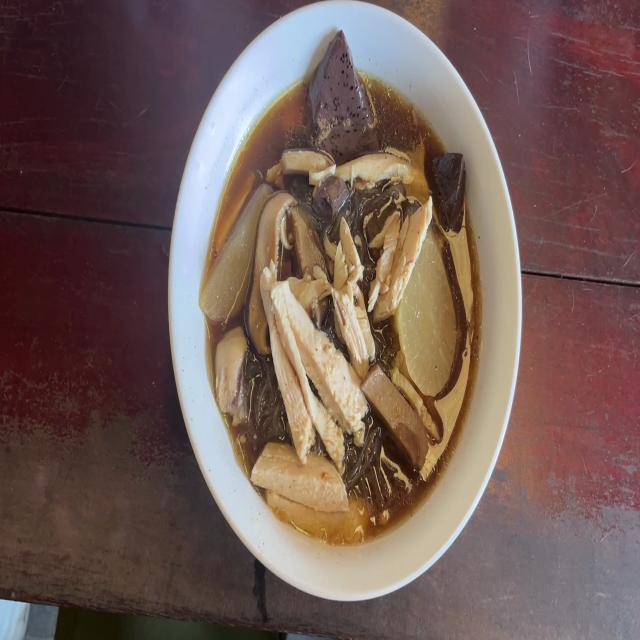boiled_chicken_blood_jelly: (314, 22, 380, 160), (433, 146, 465, 220), (318, 175, 348, 222)
chicken_shredded: (263, 276, 358, 454), (259, 442, 363, 550), (273, 133, 414, 187), (371, 202, 436, 308), (338, 224, 379, 363), (211, 334, 249, 424)
daikon_radish: (406, 258, 458, 392), (206, 188, 254, 323)
noodle: (212, 71, 487, 528)
